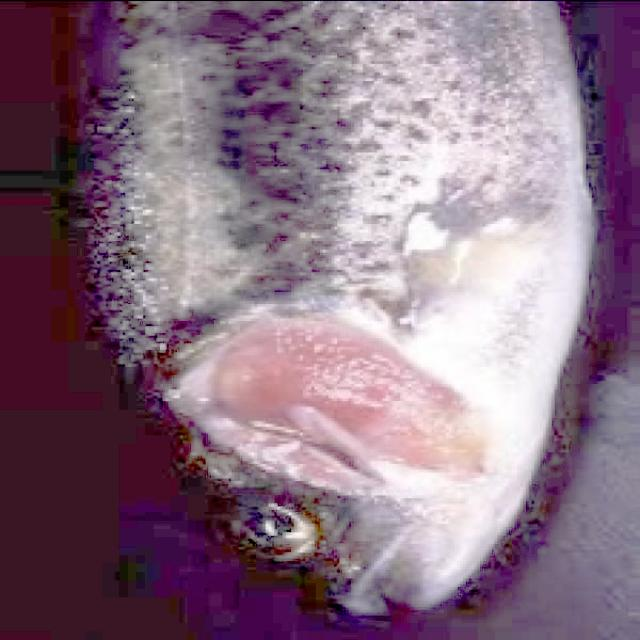Flavobacterium -Bacterial Gill Disease-: (93, 0, 590, 611)
